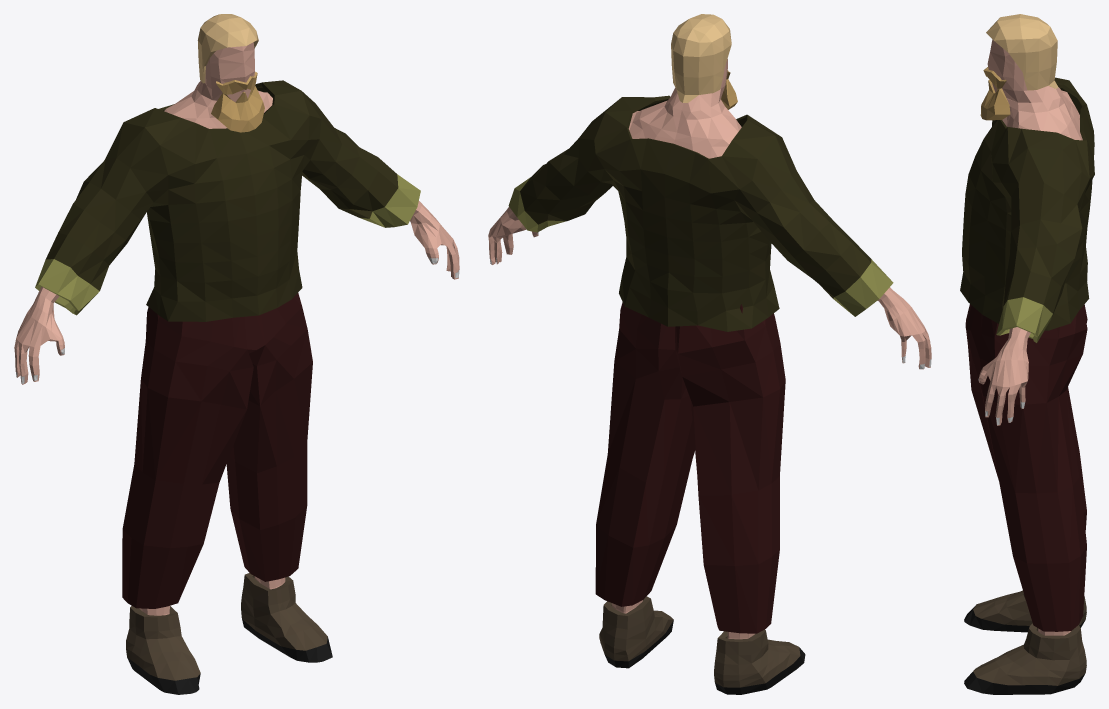
File: 2_курс.fbx
The picture shows the model from 3 angles, left to right: view 1: azimuth 30°, elevation 25°; view 2: azimuth 150°, elevation 25°; view 3: azimuth 270°, elevation 25°; orthographic projection.
Visible parts, largest first — view 1: Cube.001, Shorts, Men, Men.001, Men.004, Cube.002, Men.002; view 2: Shorts, Cube.001, Men, Men.004, Men.002, Men.001; view 3: Cube.001, Shorts, Men, Men.001, Men.002, Men.004, Cube.002.
Boxes of the visible parts, left/top/right/bottom form: Cube.001: left=35, top=80, right=420, bottom=321; Shorts: left=122, top=287, right=312, bottom=608; Men: left=14, top=42, right=459, bottom=615; Men.001: left=241, top=573, right=332, bottom=662; Men.004: left=126, top=606, right=200, bottom=694; Cube.002: left=211, top=71, right=264, bottom=132; Men.002: left=197, top=14, right=258, bottom=83; Shorts: left=595, top=302, right=785, bottom=633; Cube.001: left=508, top=95, right=893, bottom=331; Men: left=488, top=59, right=931, bottom=639; Men.004: left=714, top=629, right=805, bottom=694; Men.002: left=671, top=14, right=731, bottom=102; Men.001: left=599, top=596, right=673, bottom=668; Cube.001: left=960, top=77, right=1094, bottom=342; Shorts: left=965, top=304, right=1087, bottom=631; Men: left=978, top=39, right=1082, bottom=635; Men.001: left=964, top=623, right=1086, bottom=694; Men.002: left=986, top=14, right=1057, bottom=90; Men.004: left=964, top=590, right=1086, bottom=632; Cube.002: left=980, top=67, right=1010, bottom=120.
Size of the model in its own units: 130 by 183 by 35.
